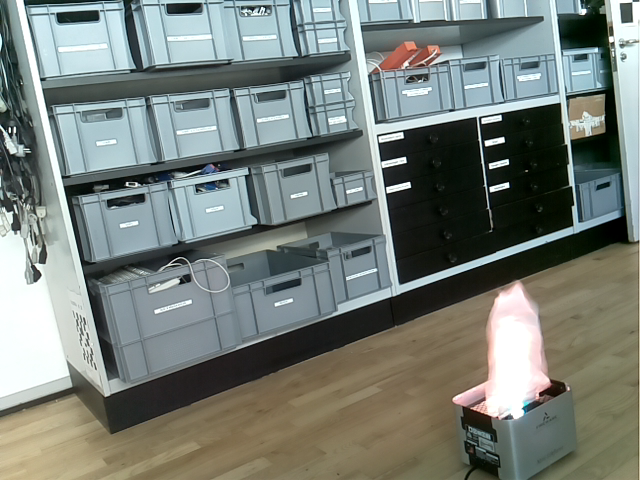fire: (484, 280, 552, 420)
